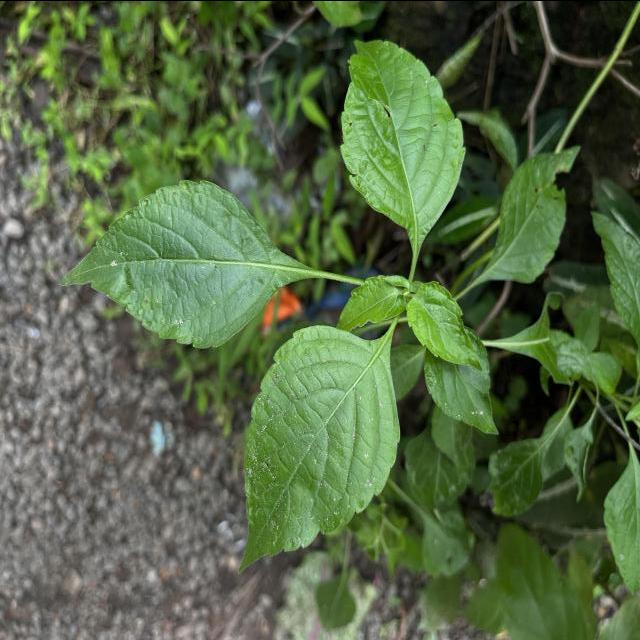Ocimum gratissimum: (57, 174, 336, 352), (236, 320, 405, 577), (336, 33, 469, 273), (472, 140, 584, 288), (402, 276, 487, 374)
